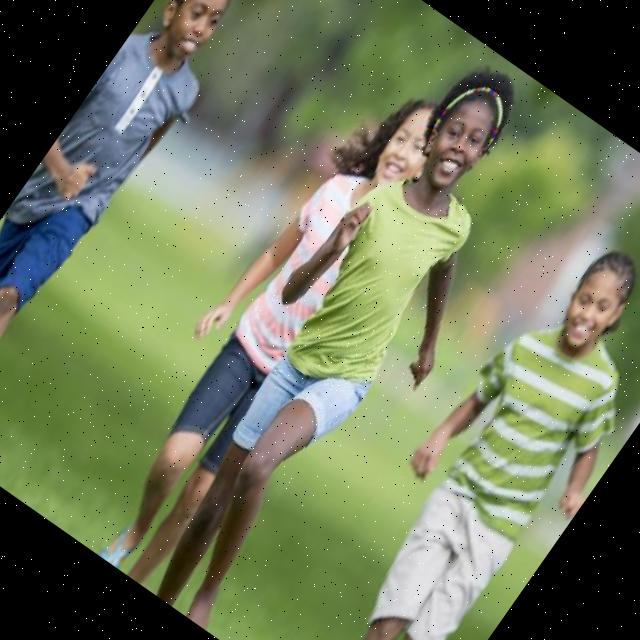Person: (96, 38, 596, 640), (55, 62, 469, 588), (262, 217, 640, 640), (0, 0, 276, 455)
